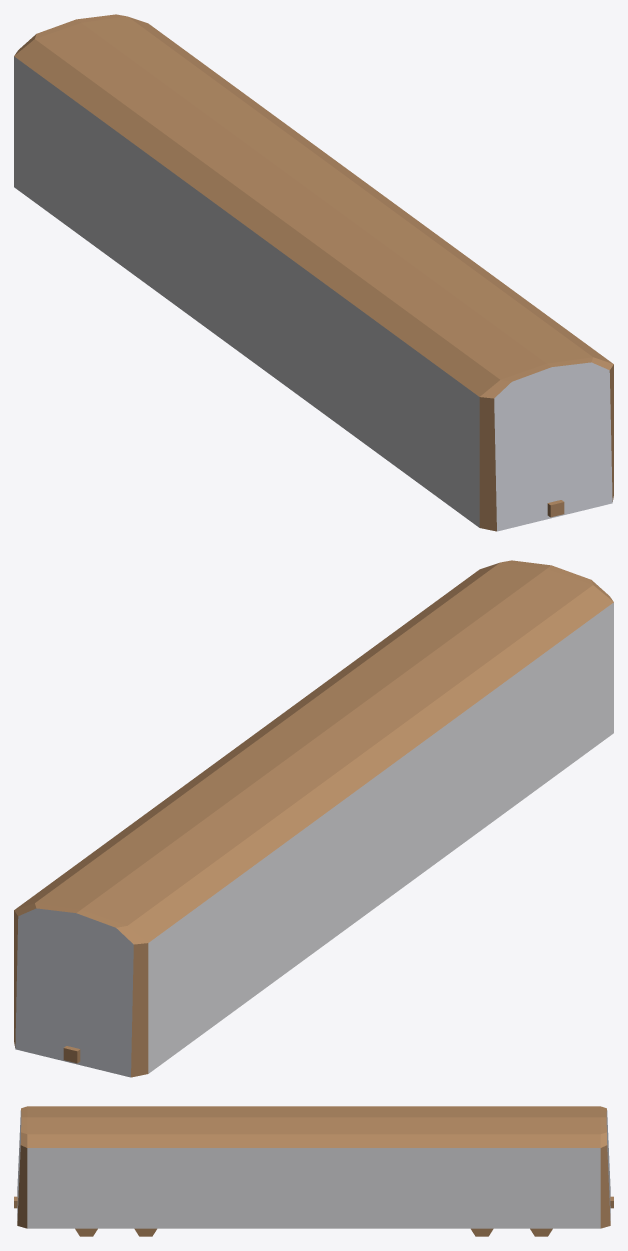
The model's file is train_car.glb.
The picture shows the model from 3 angles, top to bottom: view 1: azimuth 30°, elevation 25°; view 2: azimuth 150°, elevation 25°; view 3: azimuth 270°, elevation 25°; orthographic projection. The views are drawn at different scales.
Parts seen in each view (by area): view 1: shell, sides, front; view 2: shell, sides, front; view 3: sides, shell, front.
Boxes of the visible parts, bbox=[...] form: shell: bbox=[14, 14, 613, 531]; sides: bbox=[14, 56, 479, 527]; front: bbox=[494, 362, 612, 531]; shell: bbox=[14, 560, 613, 1077]; sides: bbox=[148, 602, 613, 1073]; front: bbox=[15, 908, 133, 1077]; sides: bbox=[27, 1148, 600, 1228]; shell: bbox=[14, 1106, 613, 1236]; front: bbox=[17, 1110, 610, 1220].
Bounding box in the file's own units: 2.9 × 3.6 × 18.2.
